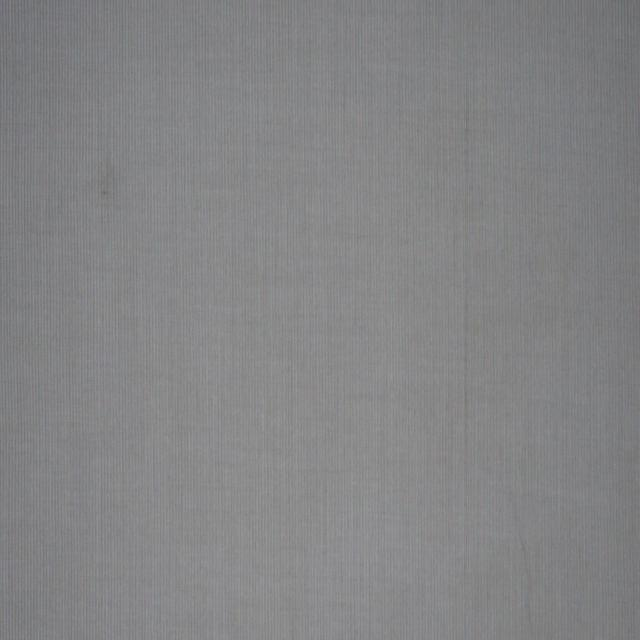dirty: (93, 168, 120, 204)
